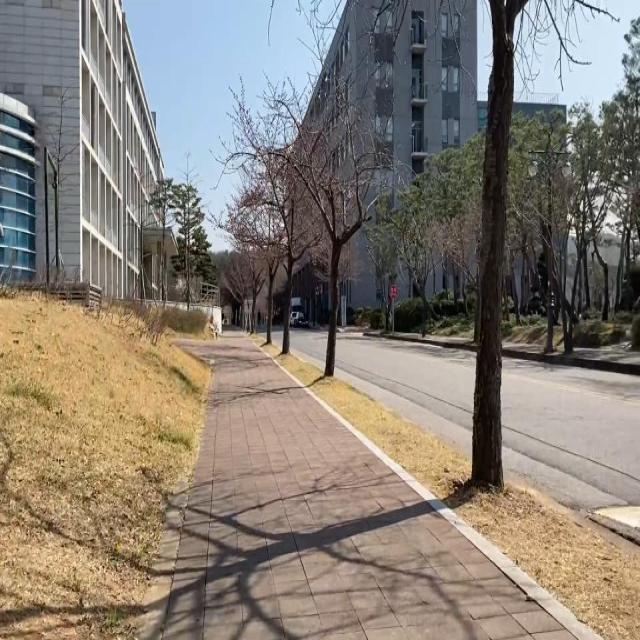sidewalk: (163, 334, 575, 639)
